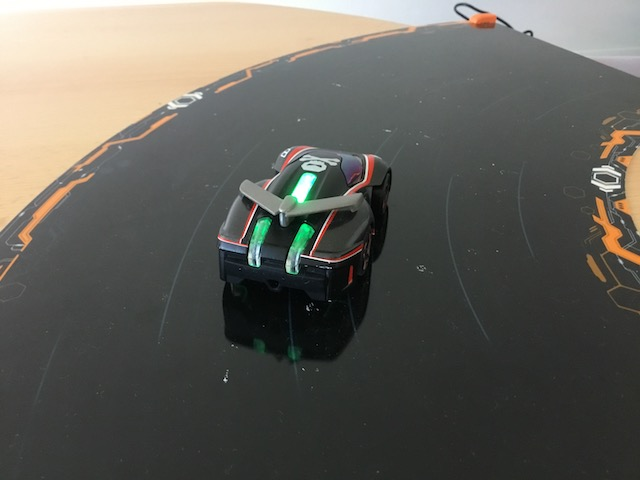car-red: (214, 142, 393, 310)
